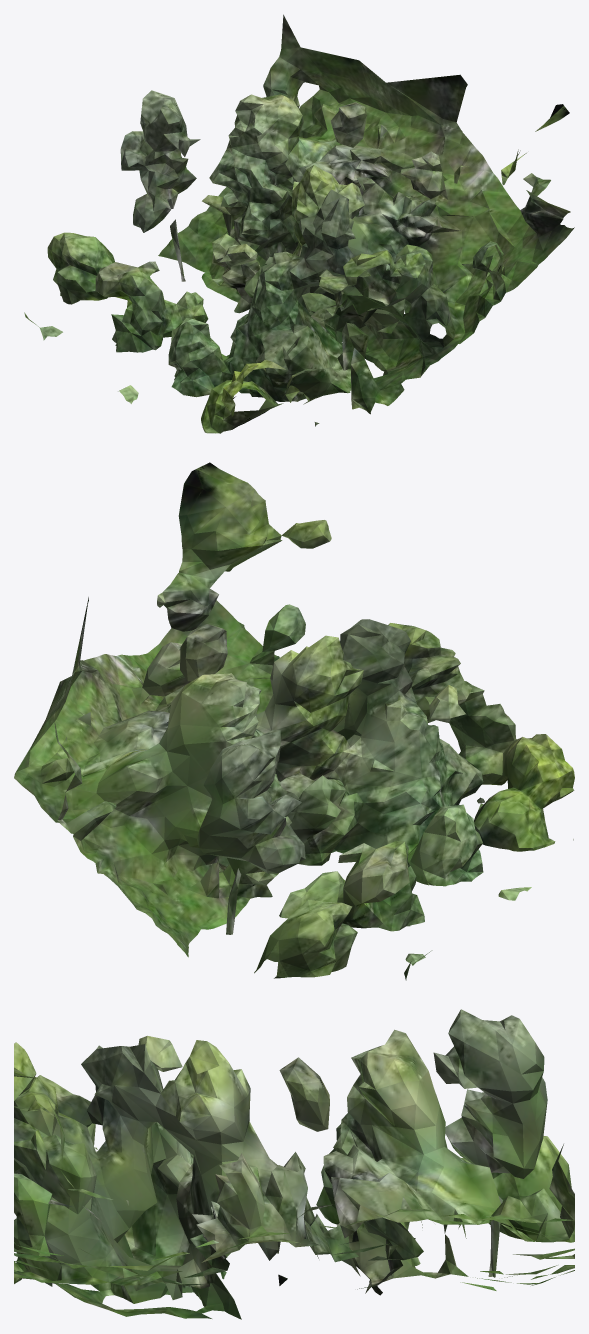
3 views of the same model, one above another, from view 1: azimuth 30°, elevation 25°; view 2: azimuth 150°, elevation 25°; view 3: azimuth 270°, elevation 25° (orthographic). The views are drawn at different scales.
Bounding box in the file's own units: 52.22 × 33.75 × 52.22.
Materials: 6 (6 with a texture image).
